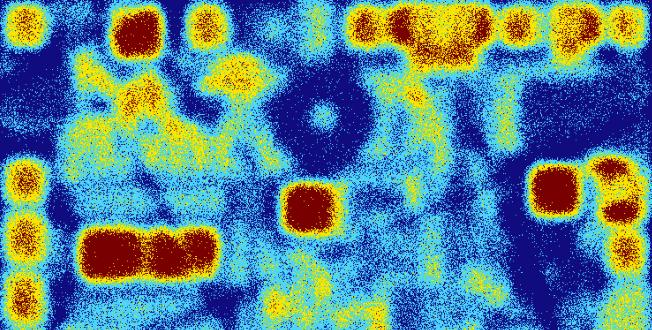Pad 1: (144, 226, 218, 283), (77, 227, 144, 284), (280, 182, 339, 238), (110, 6, 165, 61), (529, 164, 584, 219)
Pad 2: (4, 271, 44, 326), (5, 212, 46, 264), (4, 157, 47, 204), (186, 4, 228, 50), (607, 6, 646, 48), (7, 5, 45, 47), (609, 232, 645, 273), (347, 8, 384, 47), (501, 8, 538, 46)
